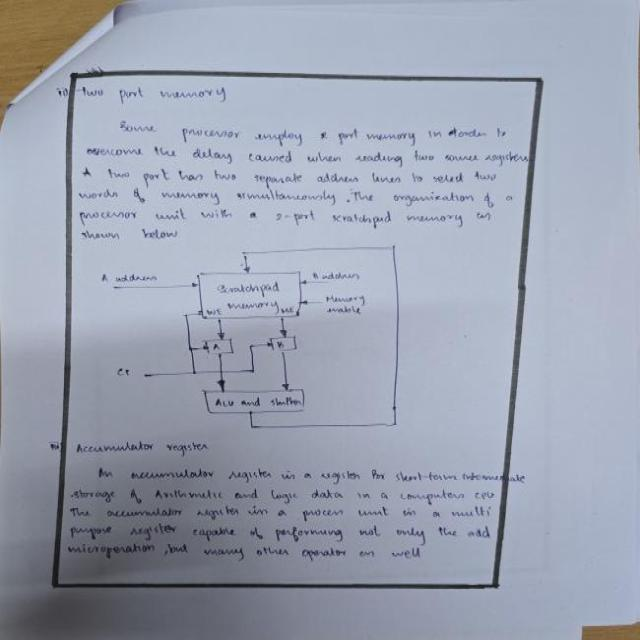Figure Detection - v3 Dataset Version2: (76, 239, 429, 438)
